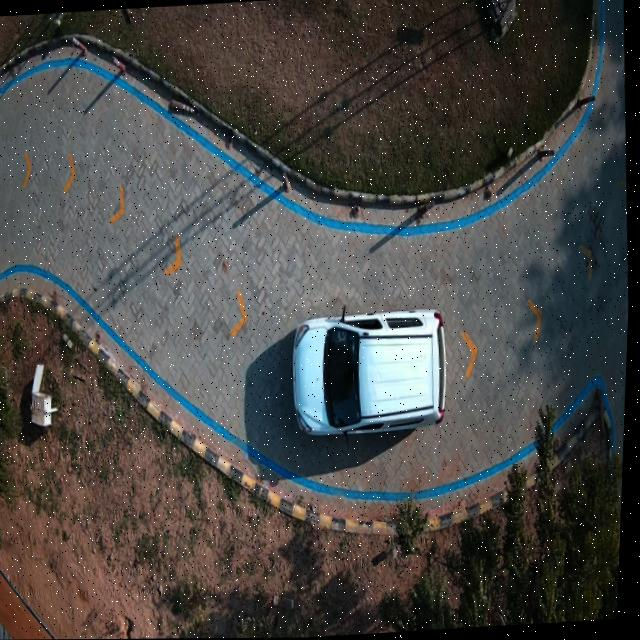car: (292, 311, 448, 439)
